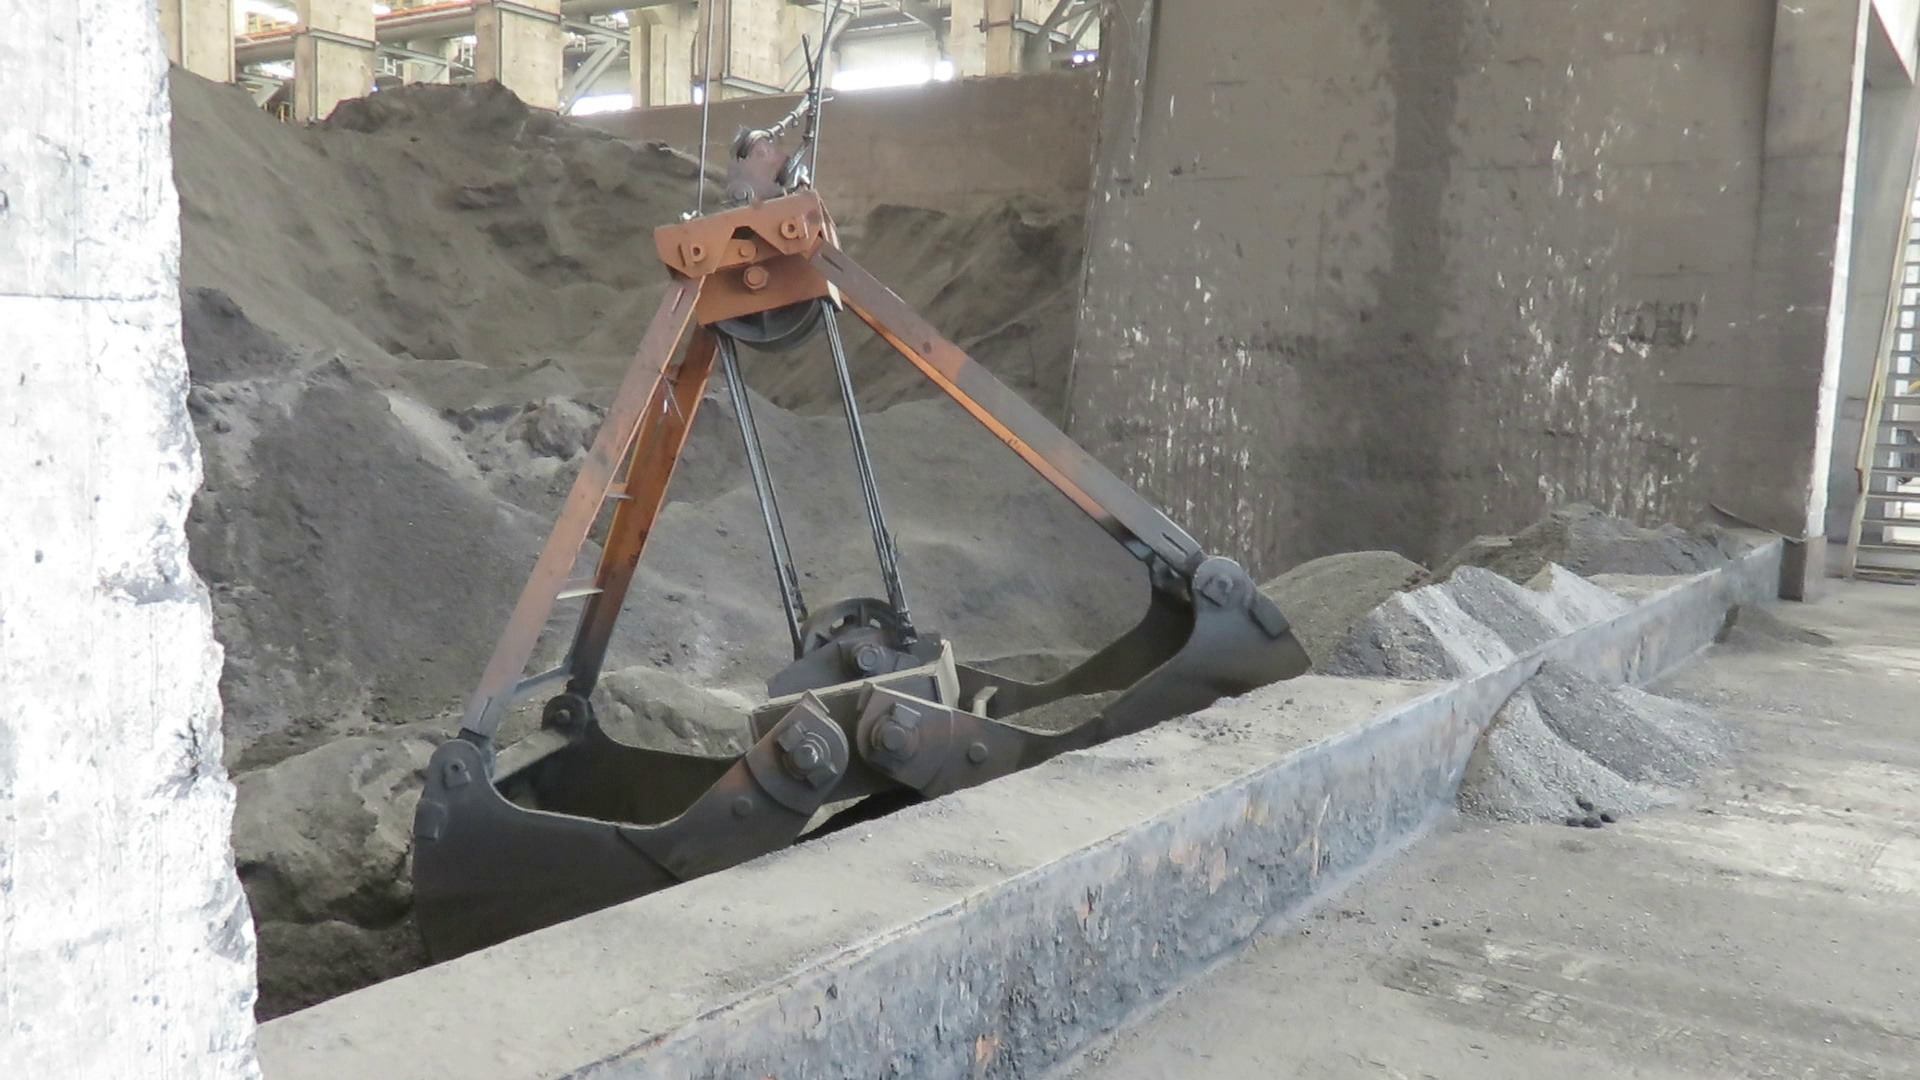grab: (406, 154, 1317, 981)
